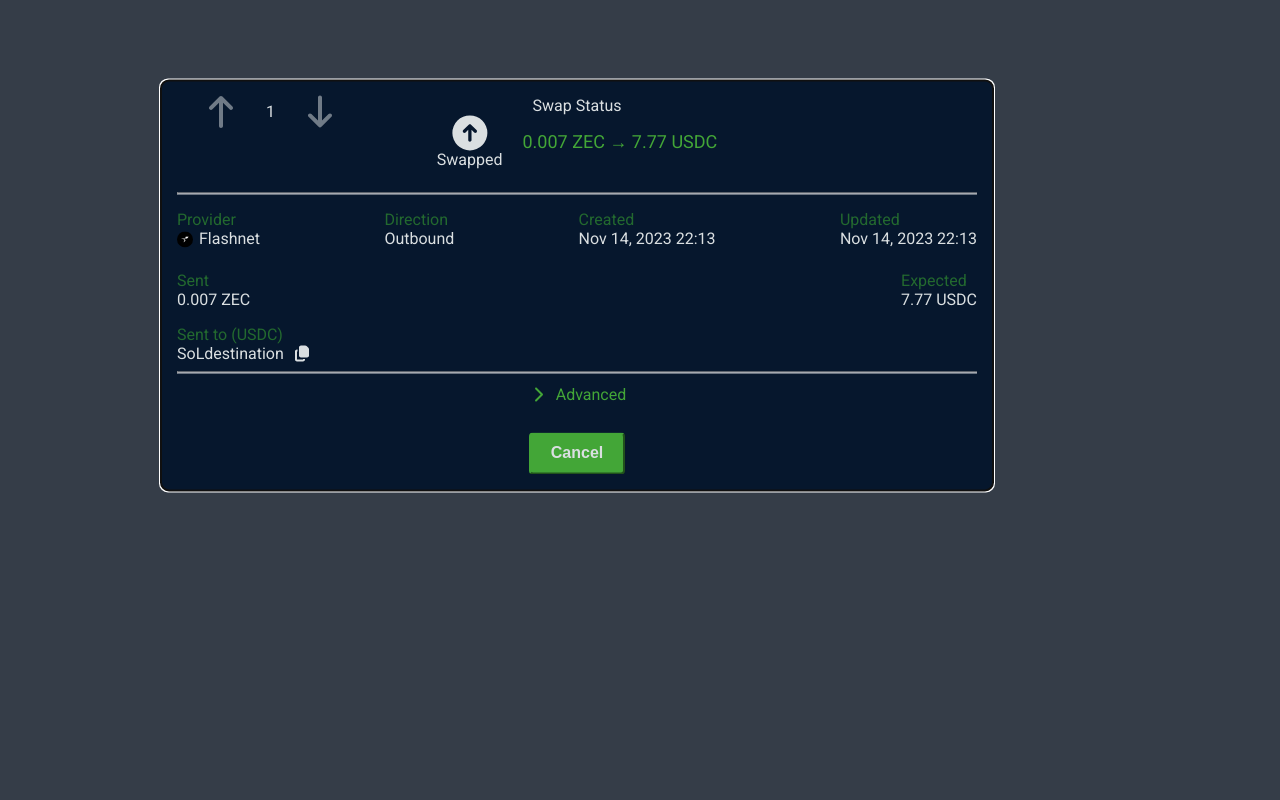
Test case: SwapDetailModal advanced half › hands the whole record over on one press
This screenshot has width=1280, height=800.
Click the button "Advanced" at (577, 394), box 520,381 -> 634,408
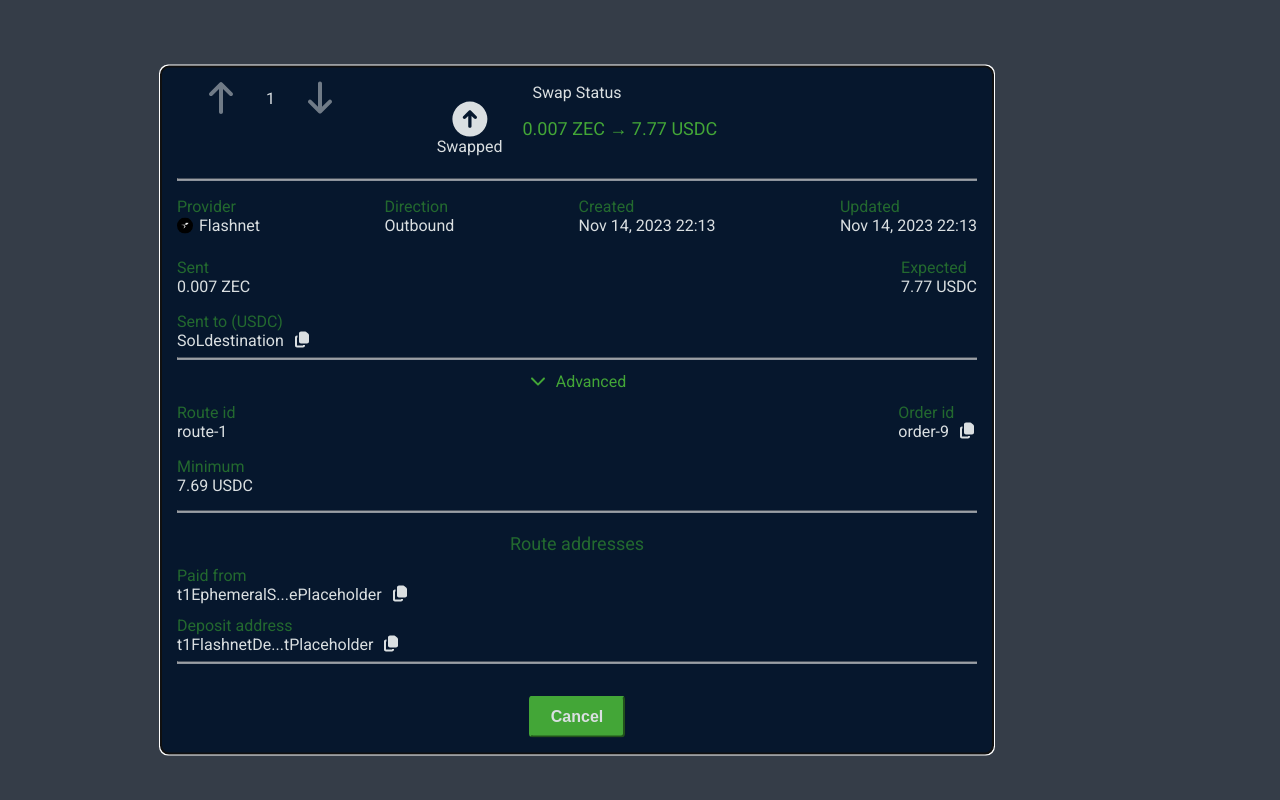
Expected: the text "route-1" is shown, 177,421 -> 235,440
Expected: the text "order-9" is shown, 898,421 -> 949,440
